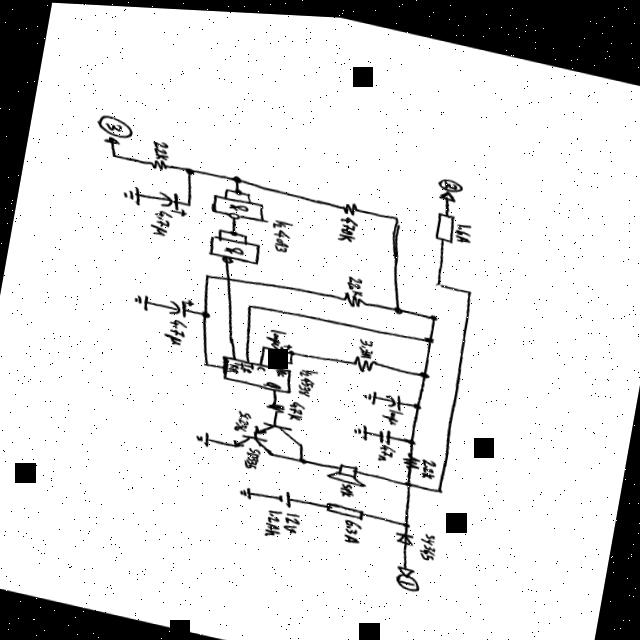capacitor: (156, 186, 188, 215), (166, 292, 195, 316), (383, 386, 404, 406), (269, 339, 294, 352), (377, 422, 394, 440)
crossover: (223, 272, 234, 279)
diode: (393, 525, 418, 541)
ground: (121, 182, 144, 204), (351, 417, 370, 436), (132, 290, 152, 308), (193, 427, 212, 444), (362, 384, 378, 401), (239, 481, 256, 496)
junction: (392, 300, 405, 310), (423, 329, 436, 339), (183, 163, 196, 173), (230, 172, 244, 181), (199, 306, 211, 316), (418, 364, 431, 373), (405, 432, 417, 441), (232, 184, 244, 192), (412, 396, 423, 404), (428, 308, 439, 316), (109, 149, 120, 157), (391, 209, 402, 217), (403, 474, 413, 482), (227, 226, 239, 232), (298, 453, 308, 460), (203, 269, 212, 276), (246, 299, 255, 306), (435, 482, 445, 488), (402, 516, 411, 522), (465, 283, 474, 289), (202, 358, 211, 364), (436, 276, 445, 282), (297, 438, 306, 444), (216, 224, 224, 230), (288, 346, 296, 352), (223, 183, 230, 189), (242, 230, 250, 235), (184, 199, 192, 204), (245, 188, 251, 194), (287, 356, 294, 361), (279, 355, 285, 360)
resistor: (323, 496, 366, 516), (431, 206, 456, 238), (351, 350, 380, 371), (341, 285, 368, 305), (401, 448, 422, 466), (339, 195, 360, 212), (265, 397, 286, 412), (148, 155, 170, 169)
source: (276, 485, 295, 505)
terminal: (437, 183, 458, 197), (103, 132, 122, 144), (397, 559, 414, 571)
text: (267, 214, 295, 250), (95, 112, 135, 137), (161, 313, 189, 344), (147, 205, 174, 235), (294, 362, 319, 394), (260, 504, 284, 536), (416, 525, 440, 556), (340, 513, 364, 540), (336, 211, 359, 239), (392, 567, 421, 587), (451, 216, 475, 239), (232, 405, 253, 431), (436, 171, 466, 189), (281, 507, 302, 532), (150, 136, 172, 159), (241, 444, 262, 468), (264, 323, 288, 344), (380, 402, 405, 422), (285, 396, 306, 419), (355, 332, 375, 355), (345, 270, 365, 291), (419, 453, 438, 475), (376, 438, 396, 458), (338, 477, 357, 494), (227, 356, 244, 371), (262, 376, 282, 386), (239, 358, 254, 370), (273, 365, 287, 374), (255, 361, 267, 368)
transistor: (230, 428, 275, 452), (252, 415, 298, 438)
